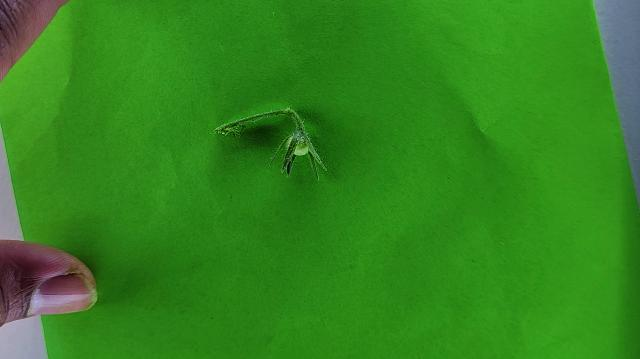Fruit Bud: (271, 110, 327, 181)
